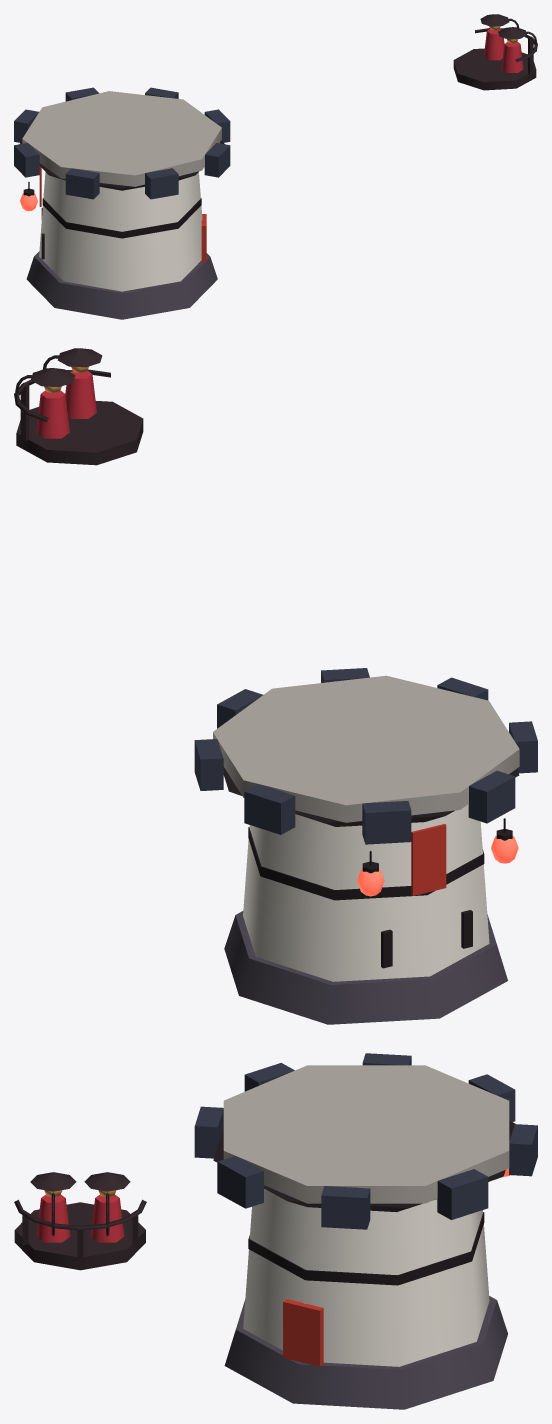
The model's file is base_standard_weapon_1.glb.
3 renders of one model, top to bottom at view 1: azimuth 30°, elevation 25°; view 2: azimuth 150°, elevation 25°; view 3: azimuth 270°, elevation 25°, orthographic. The views are drawn at different scales.
Visible parts, largest first — view 1: tower_slot_1_tower, tower_slot_1_plate, tower_slot_1_footing, weapon_mount, tower_slot_1_band, tower_slot_1_merlon_6, tower_slot_1_merlon_5, tower_slot_1_merlon_4, tower_slot_1_merlon_7, archer_r_body, archer_l_body, tower_slot_1_merlon_0 (+2 smaller); view 2: tower_slot_1_plate, tower_slot_1_tower, tower_slot_1_footing, weapon_mount, tower_slot_1_banner, tower_slot_1_band, tower_slot_1_merlon_1, tower_slot_1_merlon_0, tower_slot_1_merlon_7, tower_slot_1_merlon_2, archer_l_body, archer_r_body (+3 smaller); view 3: tower_slot_1_plate, tower_slot_1_tower, tower_slot_1_footing, weapon_mount, tower_slot_1_band, tower_slot_1_door, tower_slot_1_merlon_2, tower_slot_1_merlon_3, tower_slot_1_merlon_4, tower_slot_1_merlon_1, tower_slot_1_merlon_5, archer_l_body (+8 smaller).
Part boxes in pixels (left/top/right/bottom): tower_slot_1_tower: left=39, top=172, right=202, bottom=291; tower_slot_1_plate: left=22, top=91, right=221, bottom=186; tower_slot_1_footing: left=26, top=251, right=217, bottom=319; weapon_mount: left=453, top=48, right=536, bottom=90; tower_slot_1_band: left=42, top=198, right=201, bottom=238; tower_slot_1_merlon_6: left=65, top=168, right=99, bottom=199; tower_slot_1_merlon_5: left=145, top=168, right=178, bottom=199; tower_slot_1_merlon_4: left=204, top=143, right=230, bottom=177; tower_slot_1_merlon_7: left=14, top=143, right=39, bottom=177; archer_r_body: left=501, top=41, right=523, bottom=72; archer_l_body: left=484, top=29, right=504, bottom=60; tower_slot_1_merlon_0: left=14, top=109, right=38, bottom=142; tower_slot_1_plate: left=213, top=675, right=519, bottom=822; tower_slot_1_tower: left=243, top=804, right=489, bottom=981; tower_slot_1_footing: left=224, top=911, right=507, bottom=1024; weapon_mount: left=16, top=401, right=143, bottom=465; tower_slot_1_banner: left=411, top=824, right=446, bottom=895; tower_slot_1_band: left=248, top=827, right=484, bottom=900; tower_slot_1_merlon_1: left=244, top=784, right=295, bottom=834; tower_slot_1_merlon_0: left=362, top=801, right=411, bottom=844; tower_slot_1_merlon_7: left=468, top=770, right=515, bottom=823; tower_slot_1_merlon_2: left=194, top=739, right=223, bottom=790; archer_l_body: left=36, top=390, right=69, bottom=438; archer_r_body: left=65, top=370, right=96, bottom=418; tower_slot_1_plate: left=223, top=1065, right=509, bottom=1203; tower_slot_1_tower: left=243, top=1188, right=489, bottom=1366; tower_slot_1_footing: left=224, top=1296, right=507, bottom=1409; weapon_mount: left=14, top=1202, right=145, bottom=1270; tower_slot_1_band: left=248, top=1212, right=484, bottom=1285; tower_slot_1_door: left=283, top=1299, right=323, bottom=1366; tower_slot_1_merlon_2: left=437, top=1169, right=488, bottom=1219; tower_slot_1_merlon_3: left=321, top=1186, right=370, bottom=1229; tower_slot_1_merlon_4: left=217, top=1156, right=263, bottom=1208; tower_slot_1_merlon_1: left=509, top=1124, right=537, bottom=1176; tower_slot_1_merlon_5: left=194, top=1106, right=223, bottom=1158; archer_l_body: left=90, top=1194, right=124, bottom=1242.
Size of the model in its own units: 0.9528 by 0.562 by 0.678.
